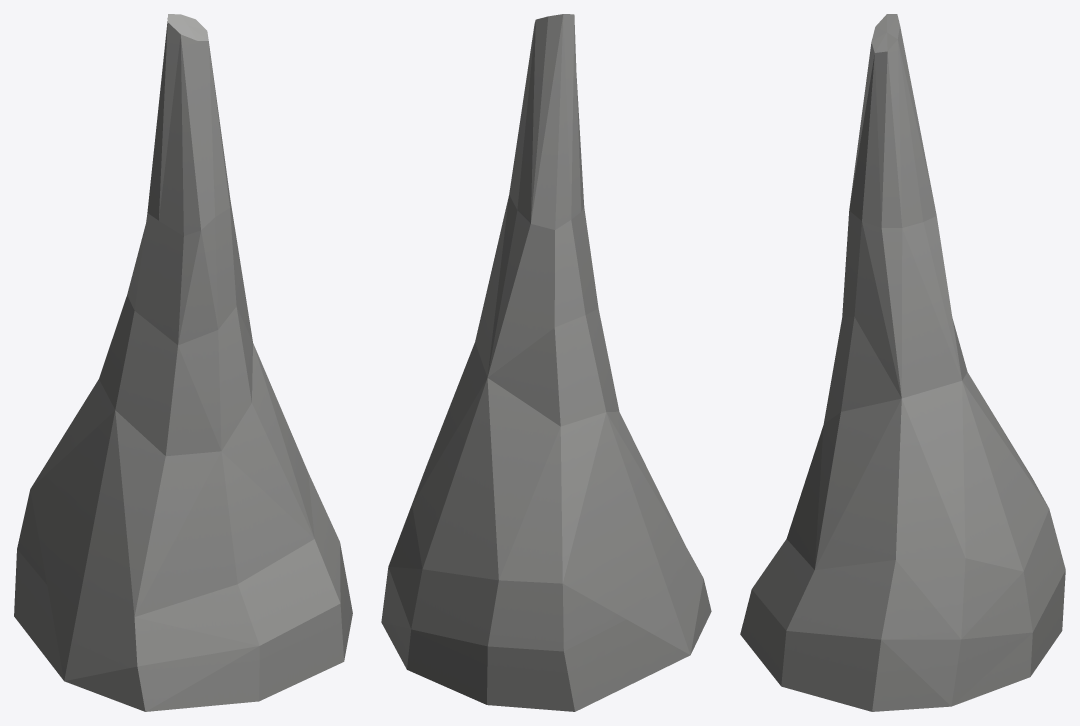
Rendered from Cavern_Stalagmite-01.fbx.
The picture shows the model from 3 angles, left to right: view 1: azimuth 30°, elevation 25°; view 2: azimuth 150°, elevation 25°; view 3: azimuth 270°, elevation 25°; orthographic projection. The views are drawn at different scales.
Parts seen in each view (by area): view 1: Cavern_Stalagmite-01; view 2: Cavern_Stalagmite-01; view 3: Cavern_Stalagmite-01.
Part boxes in pixels (x1,y1,x2,y2): Cavern_Stalagmite-01: (14,14,352,711); Cavern_Stalagmite-01: (381,14,711,711); Cavern_Stalagmite-01: (740,14,1065,711).
Bounding box in the file's own units: 110 × 232 × 111.
Materials: 1 (1 with a texture image).
